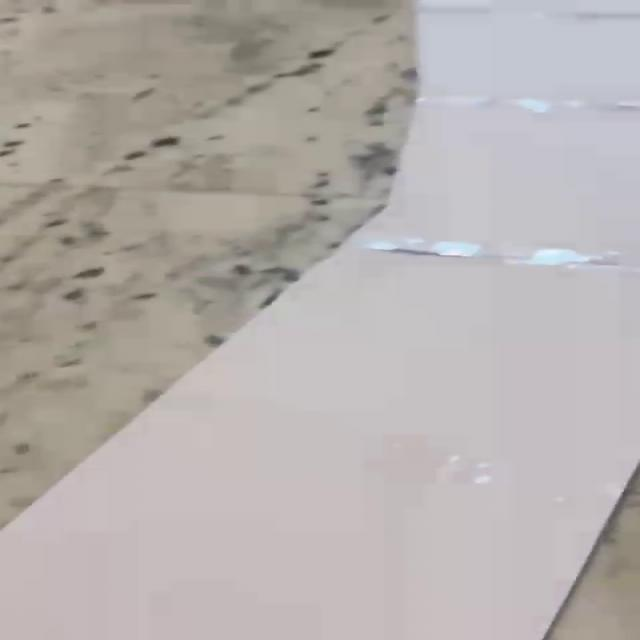road: (0, 0, 640, 640)
